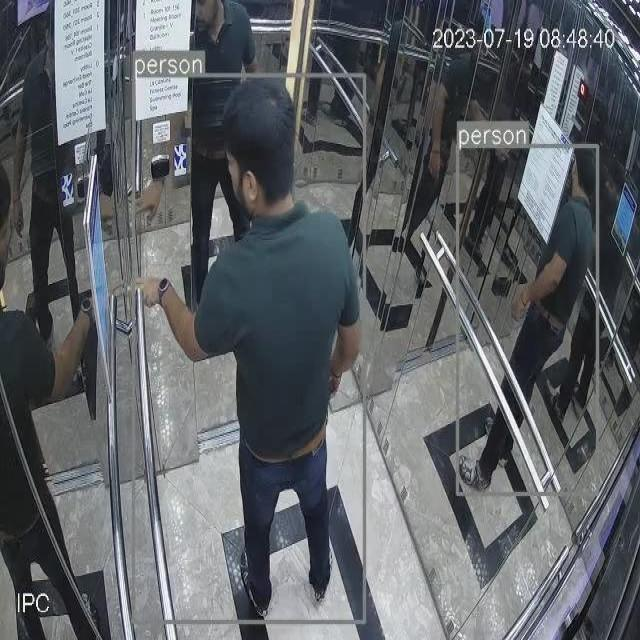person: (138, 76, 366, 623), (460, 149, 597, 495), (191, 0, 263, 316)
